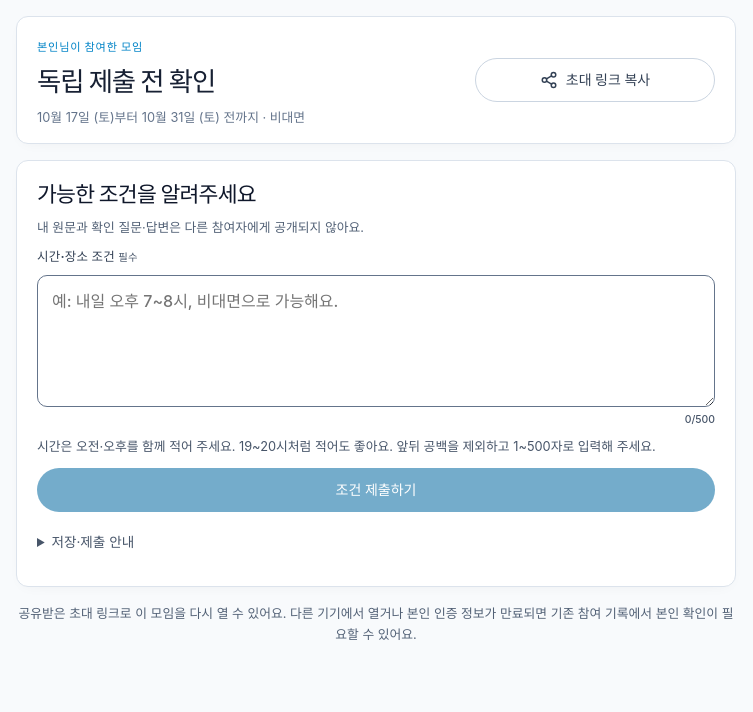
Test: #107 explicit choice, direct edit and failure handling › keeps a second-tab conflict draft without reporting it accepted
The width and height of the screenshot is (753, 712).
Type "이 탭에서 쓴 미저장 조건" into the text box labelled "시간·장소 조건 필수 0/500".
click(376, 341); type("이 탭에서 쓴 미저장 조건")  # box top-left (37, 275), bottom-right (715, 407)
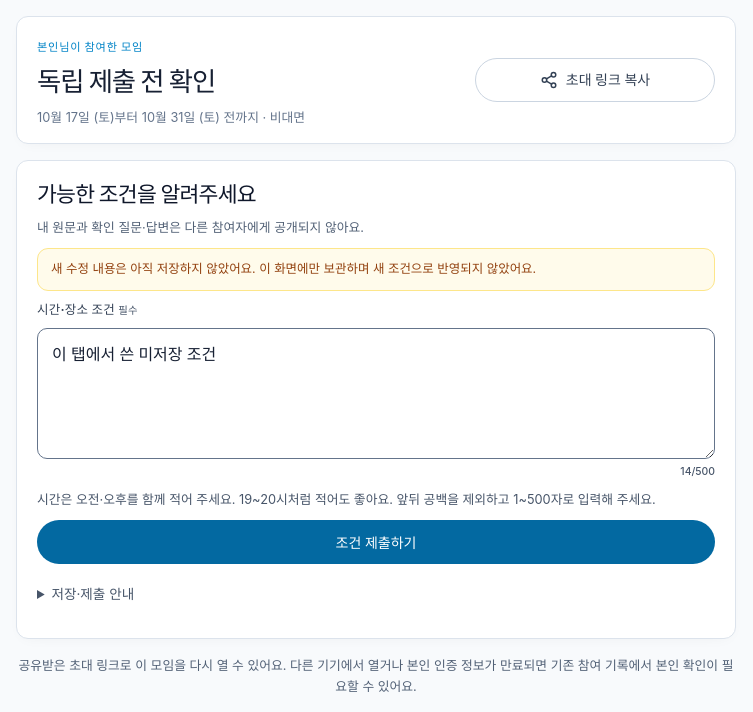
Click the button "조건 제출하기".
click(376, 542)  # box top-left (37, 520), bottom-right (715, 564)
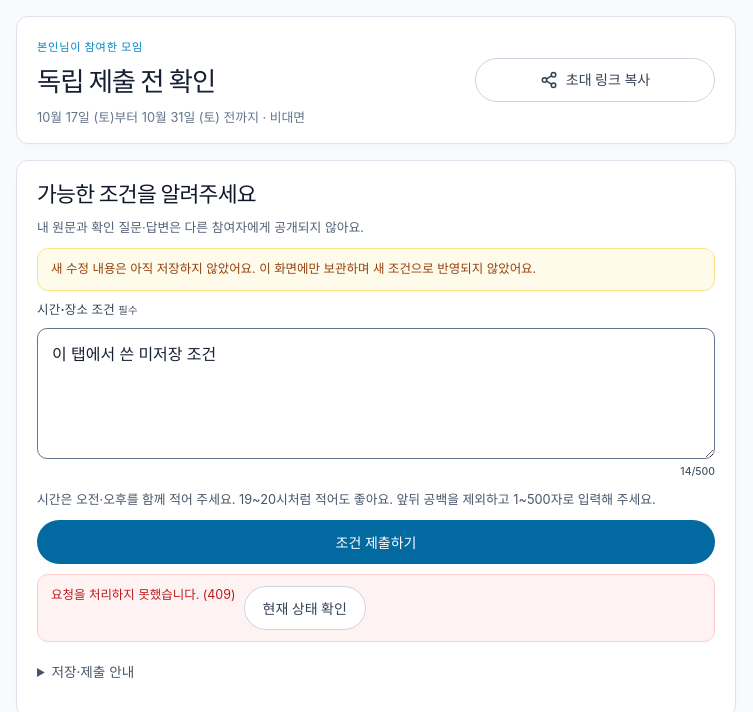
Expected: the message "요청을 처리하지 못했습니다. (409) 현재 상태 확인" is shown, top-left (37, 574), bottom-right (715, 642)
